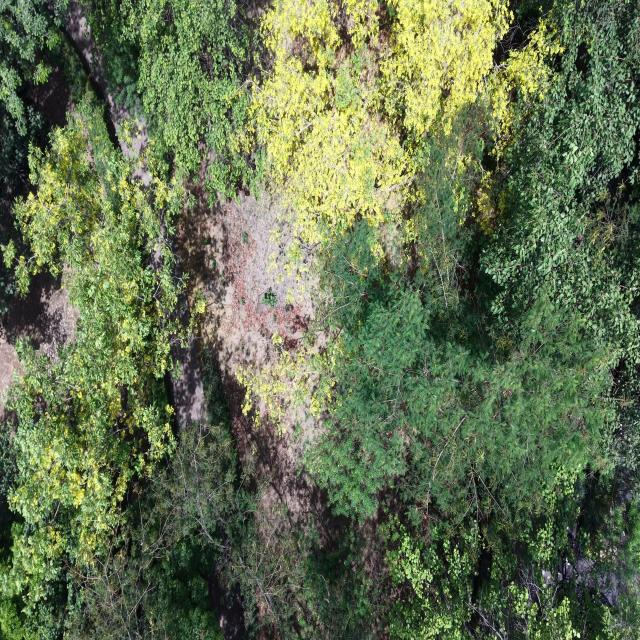DRY_AREA: (177, 194, 346, 637), (175, 194, 342, 597), (173, 190, 341, 566), (173, 194, 331, 555), (177, 193, 318, 518), (177, 194, 313, 374), (65, 0, 147, 157), (65, 0, 146, 157), (0, 274, 77, 421), (0, 274, 76, 421), (0, 275, 76, 421), (0, 276, 74, 422), (0, 276, 74, 420), (29, 67, 72, 127), (0, 337, 20, 422), (0, 338, 19, 422)
VEGETATION_TREE: (0, 0, 639, 639), (309, 3, 638, 637), (3, 98, 188, 634), (253, 0, 509, 244), (86, 0, 259, 196), (0, 0, 67, 244), (0, 0, 67, 136), (0, 107, 44, 245)
